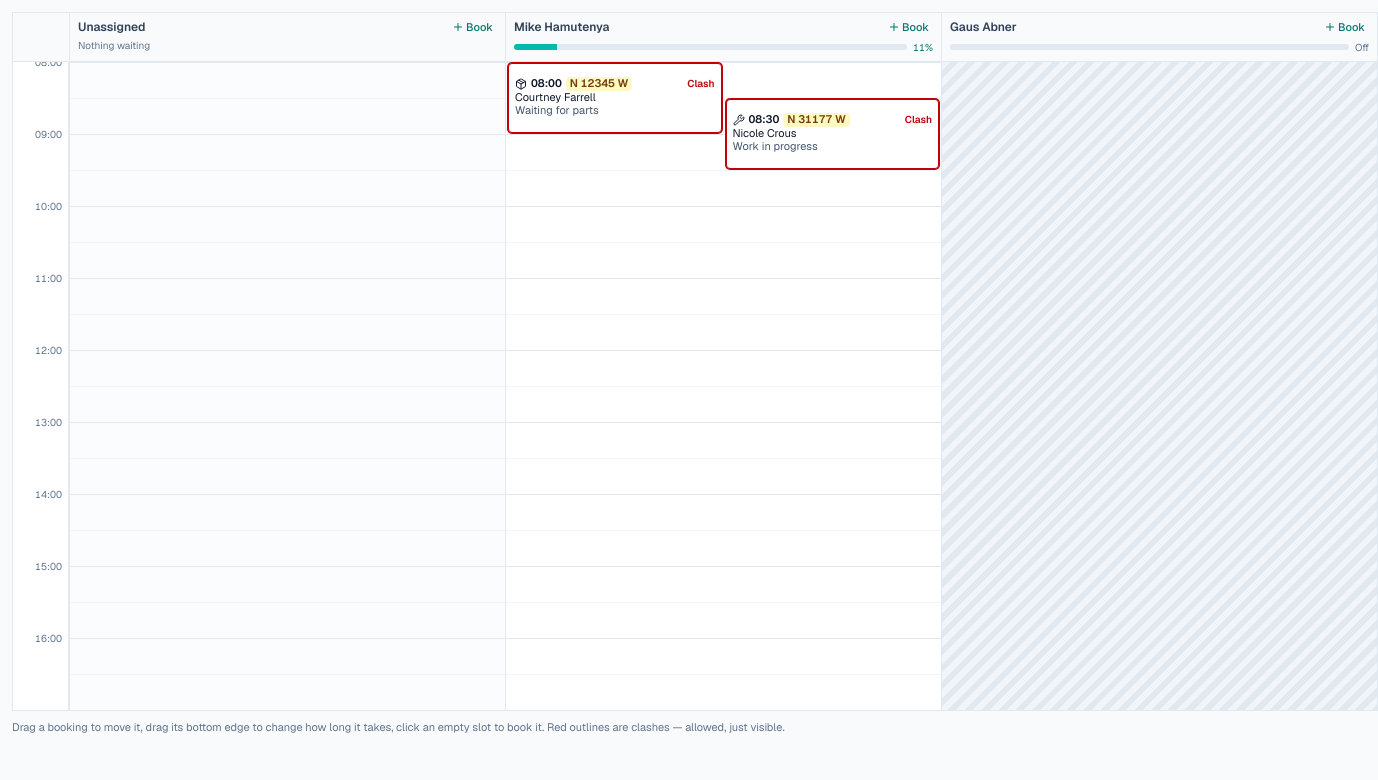
Book on a mechanic who is off says so instead of offering a slot
The image size is (1378, 780).
Click the button named "Book with Gaus Abner": coordinates (1344, 27) [1320,17,1369,38]
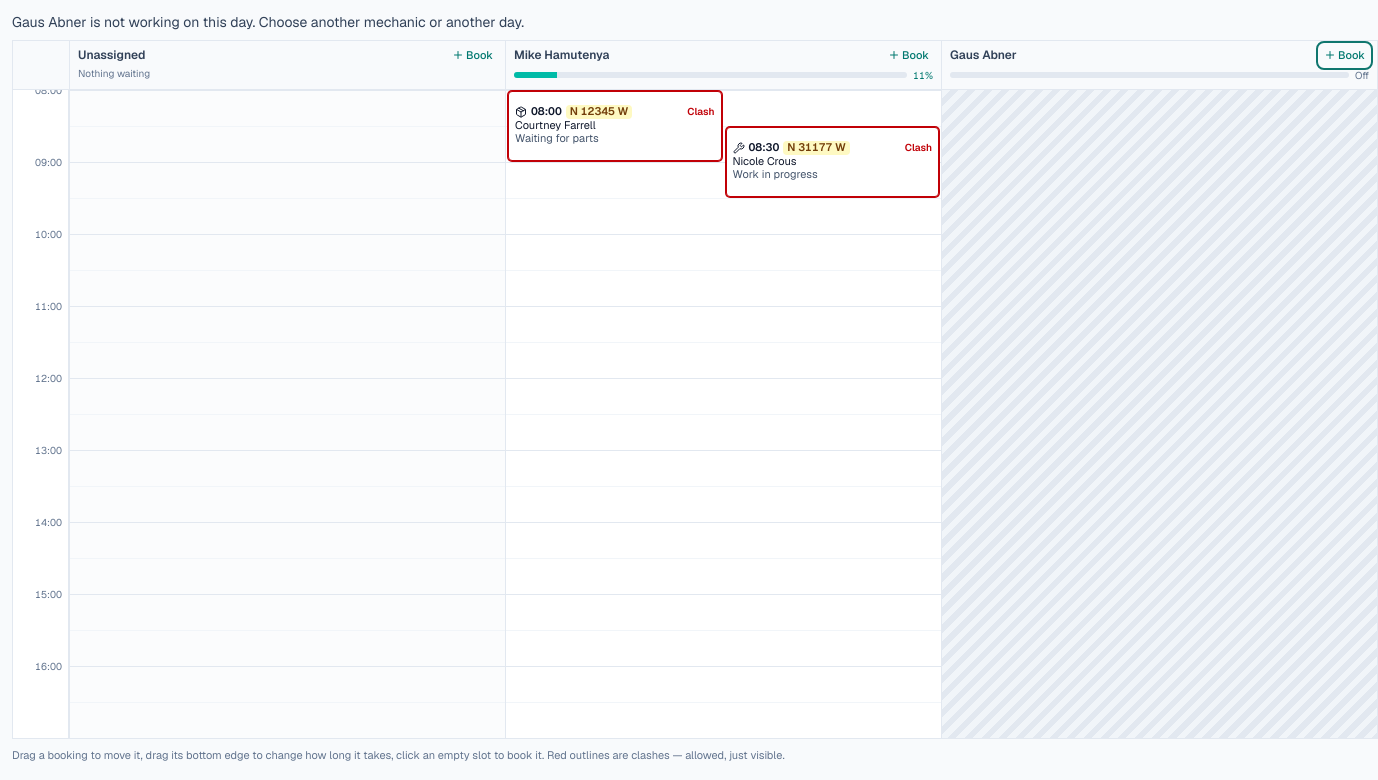
Check: the message reads "Gaus Abner is not working on this day. Choose another mechanic or another day.", box [12,13,524,31]
